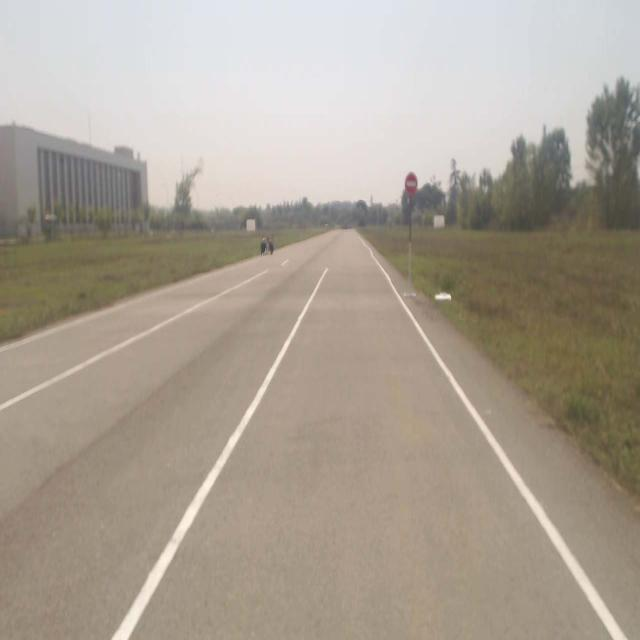girisyok: (406, 172, 418, 192)
